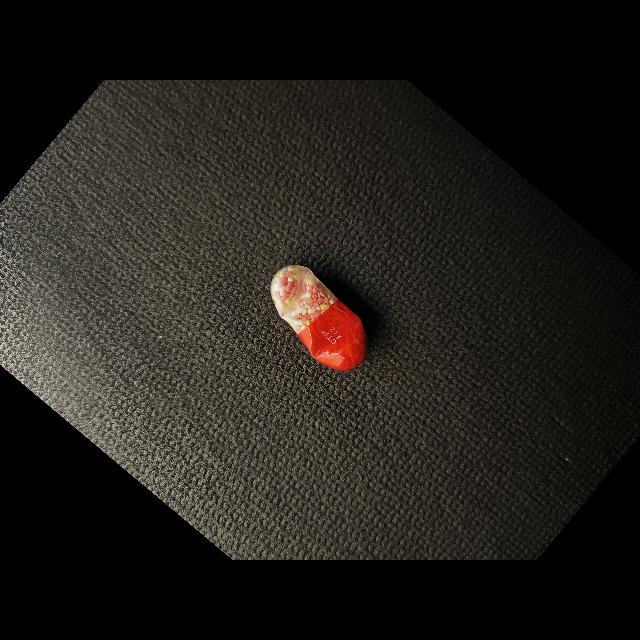Defective Capsule: (270, 265, 368, 371)
